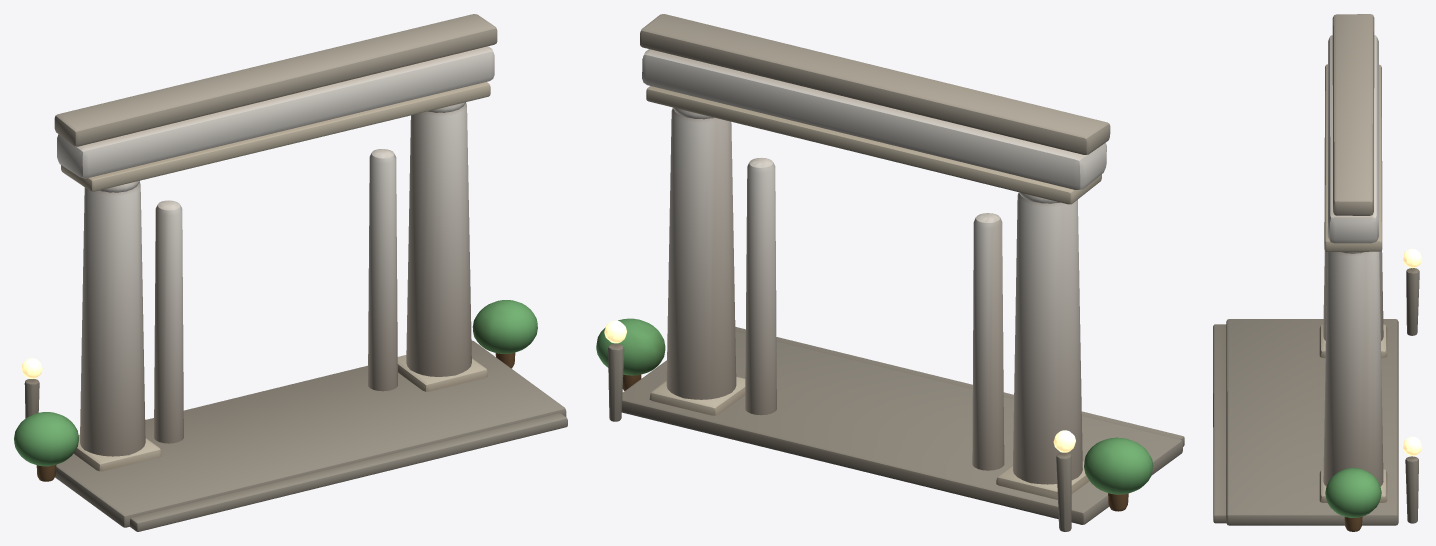
The picture shows the model from 3 angles, left to right: view 1: azimuth 30°, elevation 25°; view 2: azimuth 150°, elevation 25°; view 3: azimuth 270°, elevation 25°; orthographic projection. The views are drawn at different scales.
Parts seen in each view (by area): view 1: gate_8abfae29; view 2: gate_8abfae29; view 3: gate_8abfae29.
Boxes of the visible parts, x1=… form: gate_8abfae29: x1=14, y1=14, x2=567, y2=531; gate_8abfae29: x1=596, y1=14, x2=1184, y2=531; gate_8abfae29: x1=1213, y1=14, x2=1421, y2=531.
Bounding box in the file's own units: 6.62 × 4.34 × 2.55.
